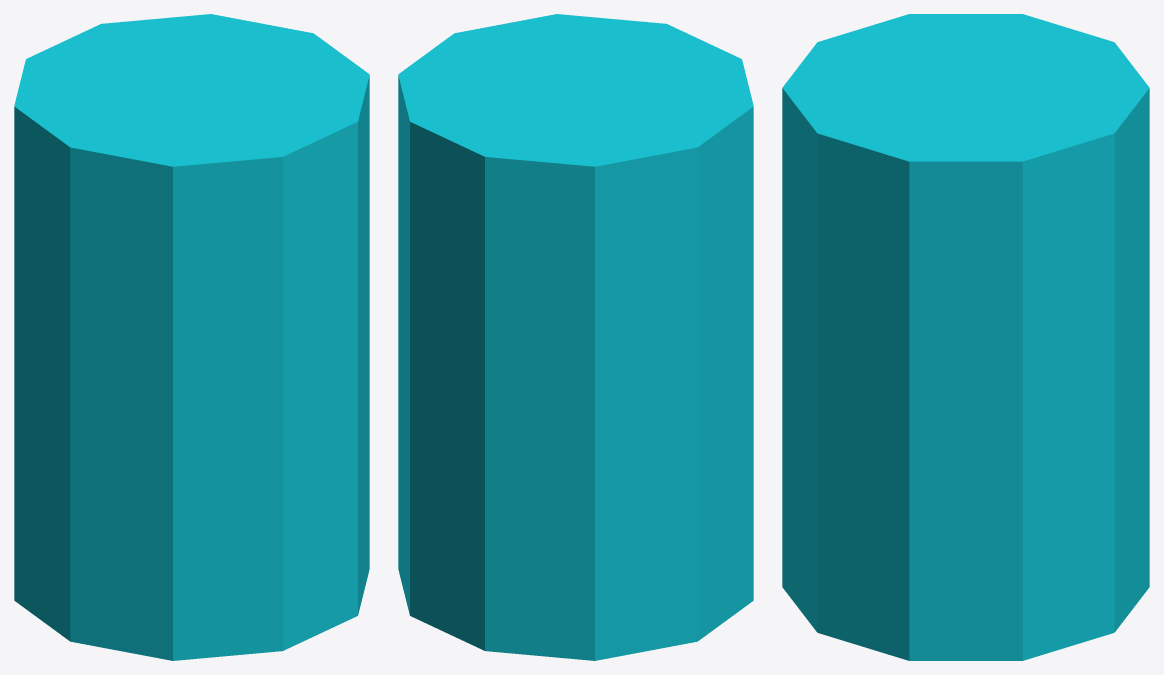
File: na_drum.glb
The picture shows the model from 3 angles, left to right: view 1: azimuth 30°, elevation 25°; view 2: azimuth 150°, elevation 25°; view 3: azimuth 270°, elevation 25°; orthographic projection.
Parts seen in each view (by area): view 1: Cylinder; view 2: Cylinder; view 3: Cylinder.
Boxes of the visible parts, x1,y1,x2,y2 form: Cylinder: (14,14,369,660); Cylinder: (398,14,753,660); Cylinder: (782,14,1149,660).
Bounding box in the file's own units: 1.14 × 1.8 × 1.2.
